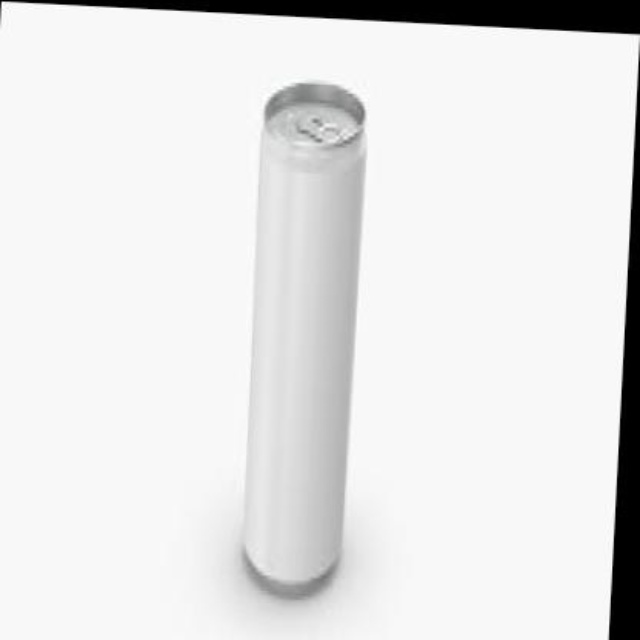trash: (245, 83, 365, 592)
